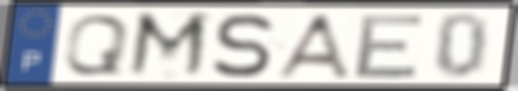0: (434, 11, 493, 82)
A: (270, 12, 354, 80)
E: (350, 12, 428, 80)
M: (123, 9, 214, 80)
Q: (60, 13, 133, 77)
S: (209, 11, 278, 80)
